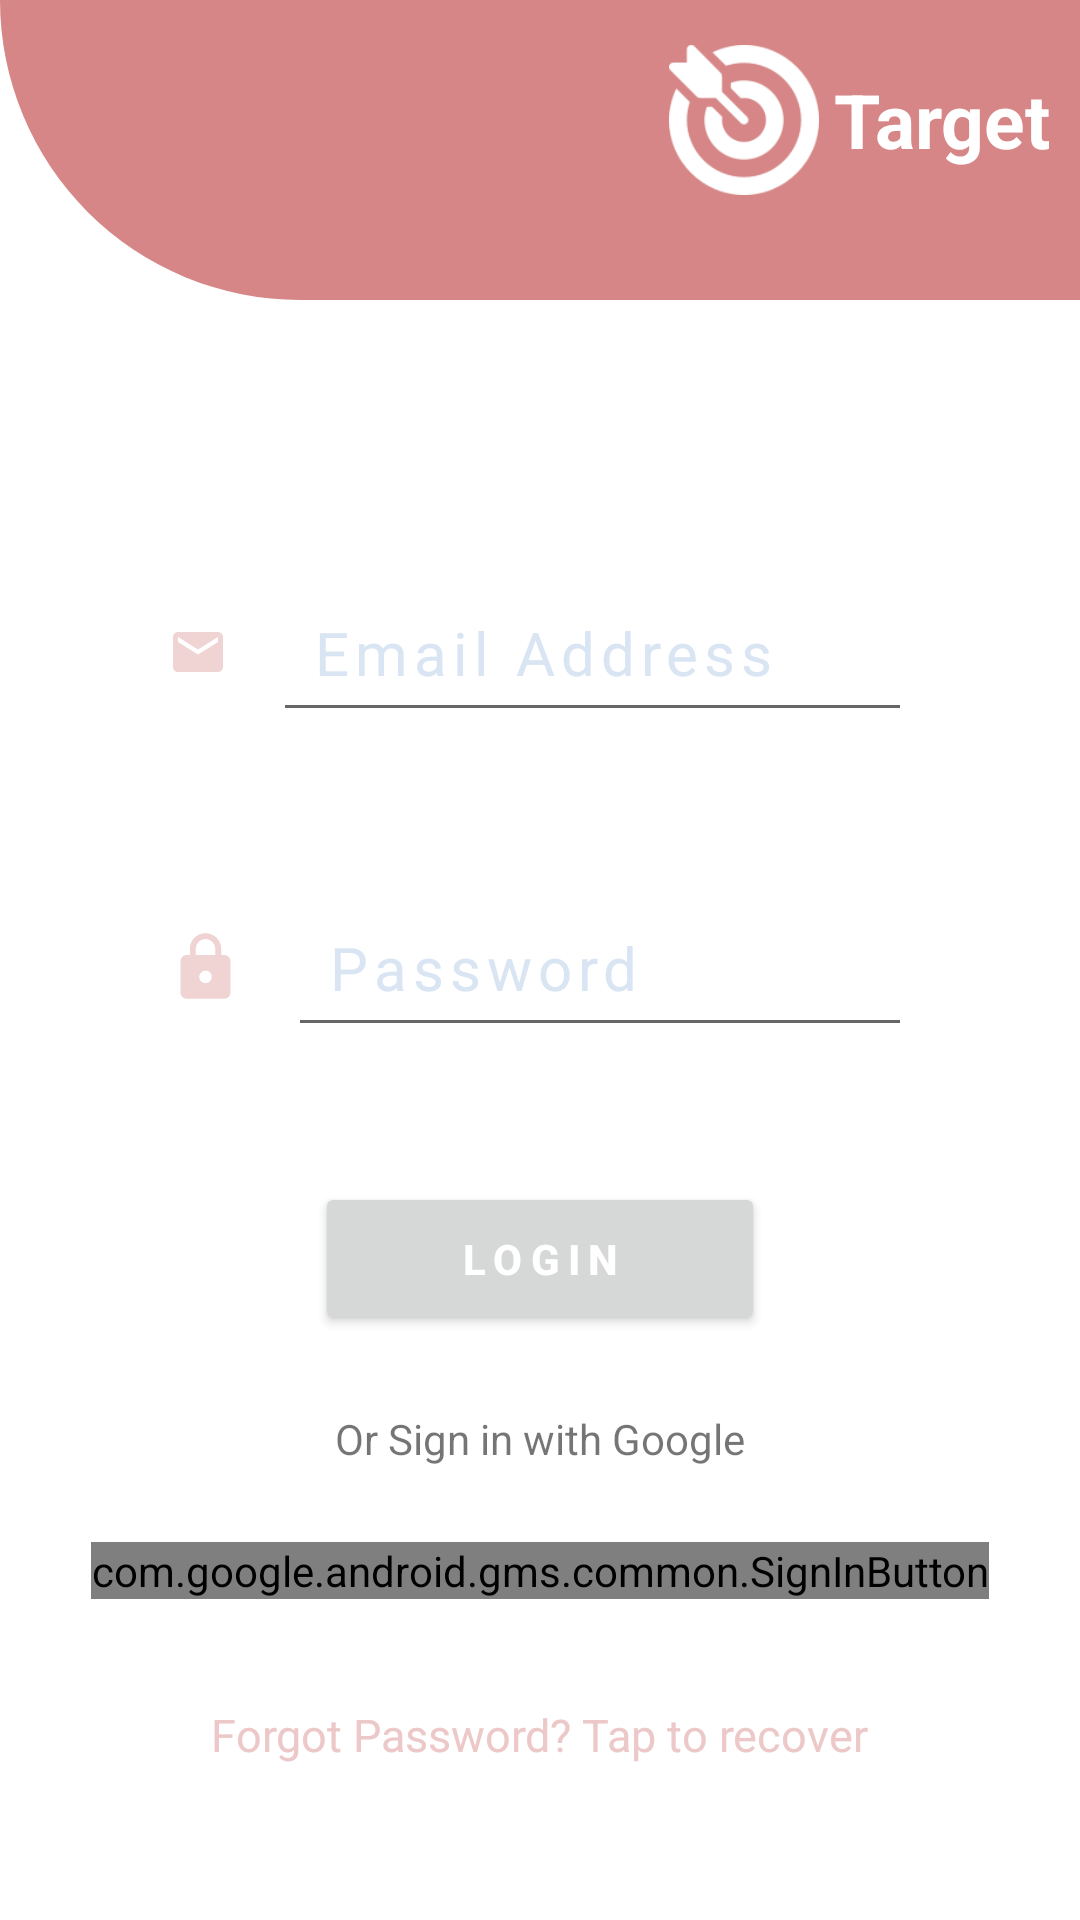

Icon click points for this 1080w x 1920h phone screenshot, format [x,y]:
lock: [205,966]
